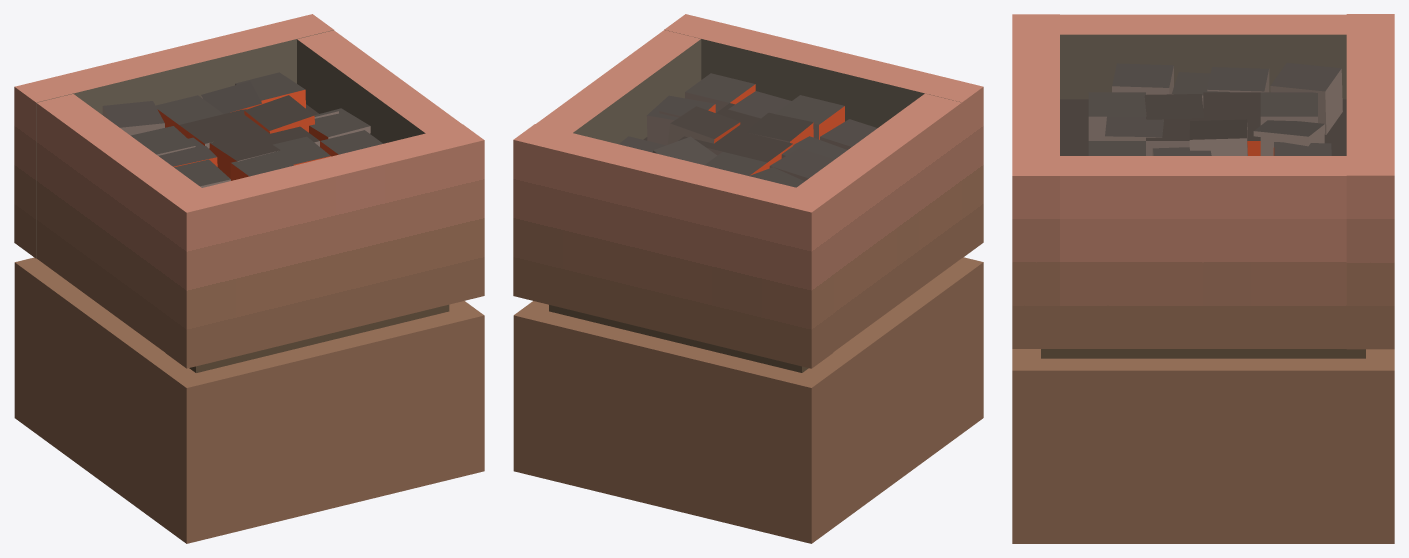
Rendered from Sauna Coals.fbx.
3 views of the same model, side by side, from view 1: azimuth 30°, elevation 25°; view 2: azimuth 150°, elevation 25°; view 3: azimuth 270°, elevation 25° (orthographic). The views are drawn at different scales.
Visible parts, largest first — view 1: cube, cube_5, cube_2, cube_4, cube_3, cube_1, cube_18, cube_6, cube_12, cube_14, cube_15, cube_21 (+9 smaller); view 2: cube, cube_4, cube_2, cube_5, cube_3, cube_1, cube_18, cube_13, cube_22, cube_21, cube_12, cube_15 (+6 smaller); view 3: cube, cube_3, cube_2, cube_4, cube_5, cube_1, cube_6, cube_18, cube_13, cube_11, cube_14, cube_7 (+9 smaller).
Part boxes in pixels (x1,y1,x2,y2): cube: [14, 257, 484, 543]; cube_5: [165, 124, 484, 368]; cube_2: [36, 94, 201, 352]; cube_4: [14, 14, 333, 258]; cube_3: [297, 30, 462, 143]; cube_1: [189, 104, 449, 372]; cube_18: [244, 95, 314, 133]; cube_6: [102, 101, 164, 135]; cube_12: [209, 132, 280, 178]; cube_14: [156, 95, 223, 130]; cube_15: [179, 114, 248, 148]; cube_21: [309, 108, 370, 140]; cube: [513, 257, 983, 543]; cube_4: [513, 124, 833, 368]; cube_2: [797, 93, 961, 351]; cube_5: [664, 14, 983, 257]; cube_3: [536, 30, 701, 144]; cube_1: [549, 137, 808, 372]; cube_18: [667, 106, 740, 144]; cube_13: [775, 95, 844, 139]; cube_22: [685, 73, 755, 112]; cube_21: [646, 95, 715, 145]; cube_12: [746, 113, 813, 144]; cube_15: [723, 133, 793, 168]; cube: [1012, 349, 1394, 543]; cube_3: [1060, 156, 1346, 348]; cube_2: [1060, 14, 1346, 99]; cube_4: [1346, 14, 1394, 349]; cube_5: [1012, 14, 1059, 348]; cube_1: [1041, 99, 1365, 358]; cube_6: [1270, 62, 1342, 134]; cube_18: [1189, 119, 1247, 155]; cube_13: [1088, 92, 1145, 140]; cube_11: [1112, 63, 1173, 94]; cube_14: [1260, 92, 1317, 125]; cube_7: [1253, 120, 1324, 155].
Bounding box in the file's own units: 12.51 × 13.29 × 12.51.
2 materials, 2 textured.
